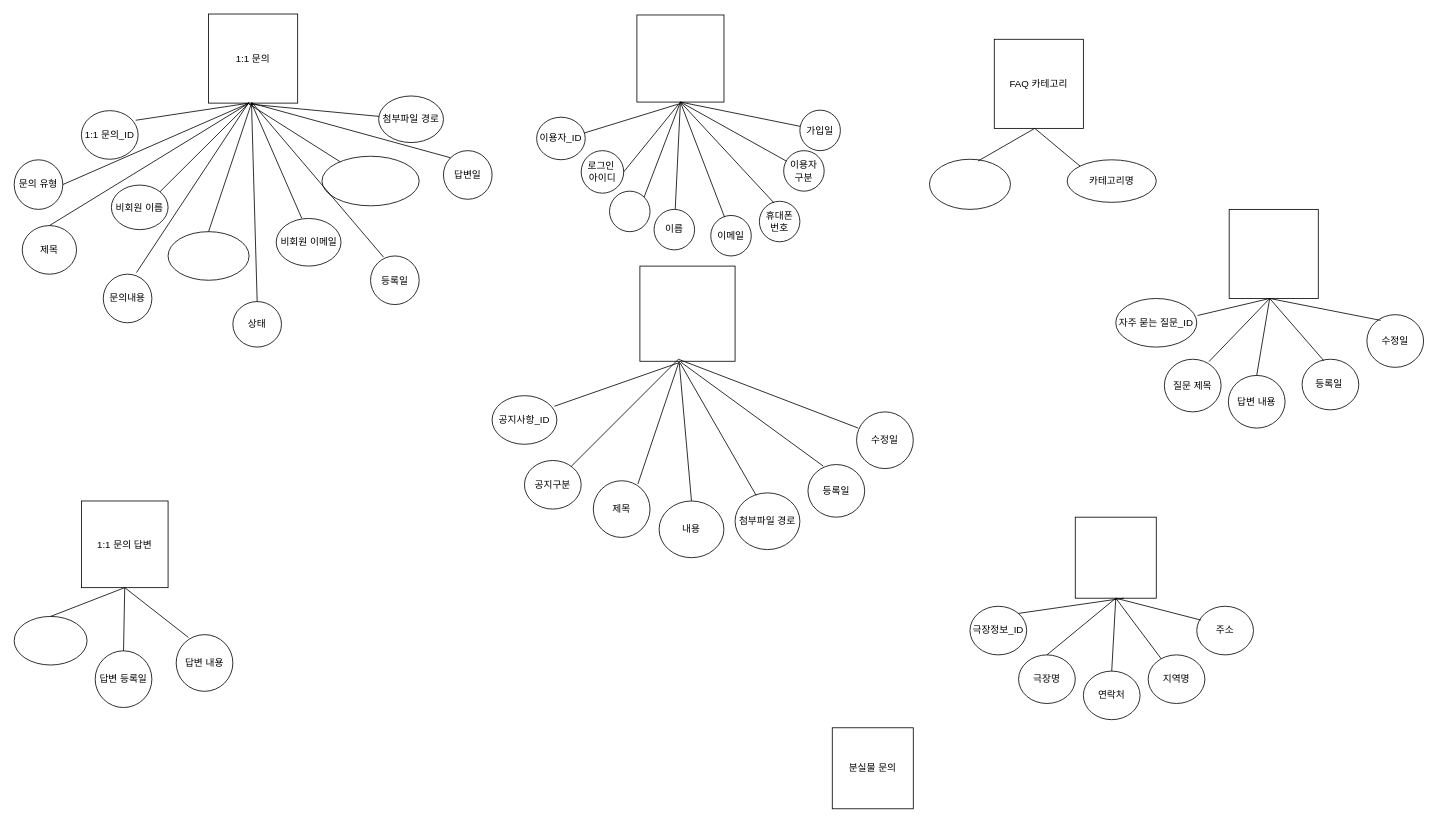
This 1438x824 diagram has some shape labels left out. Each missing label, with the box of its shape:
1:1 문의 답변_ID: (13, 616, 87, 665)
FAQ 카테고리_ID: (929, 158, 1010, 209)
공지사항: (639, 265, 735, 361)
극장정보: (1074, 516, 1156, 598)
비밀번호: (609, 190, 650, 232)
비회원 게시글 비밀번호: (321, 155, 419, 206)
비회원 휴대폰 번호: (167, 231, 249, 280)
이용자: (636, 14, 724, 102)
자주 묻는 질문: (1228, 209, 1318, 298)
